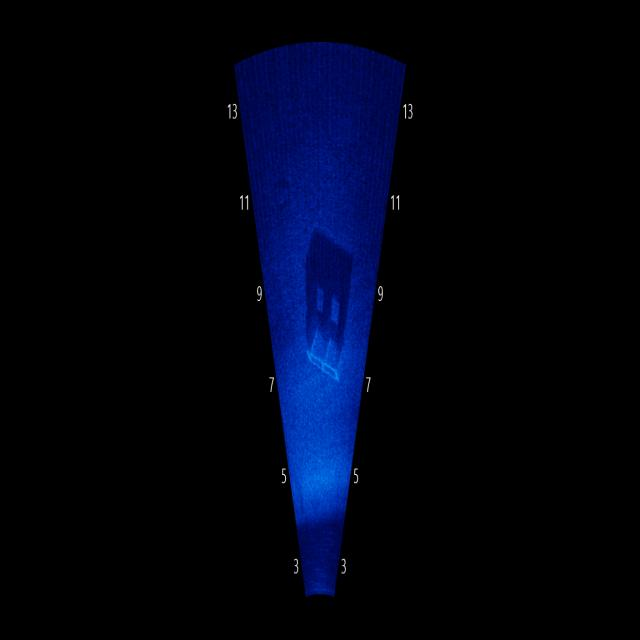square: (300, 215, 358, 394)
